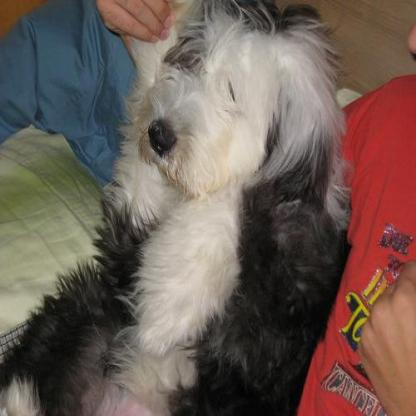Old_English_sheepdog: (0, 0, 351, 414)
